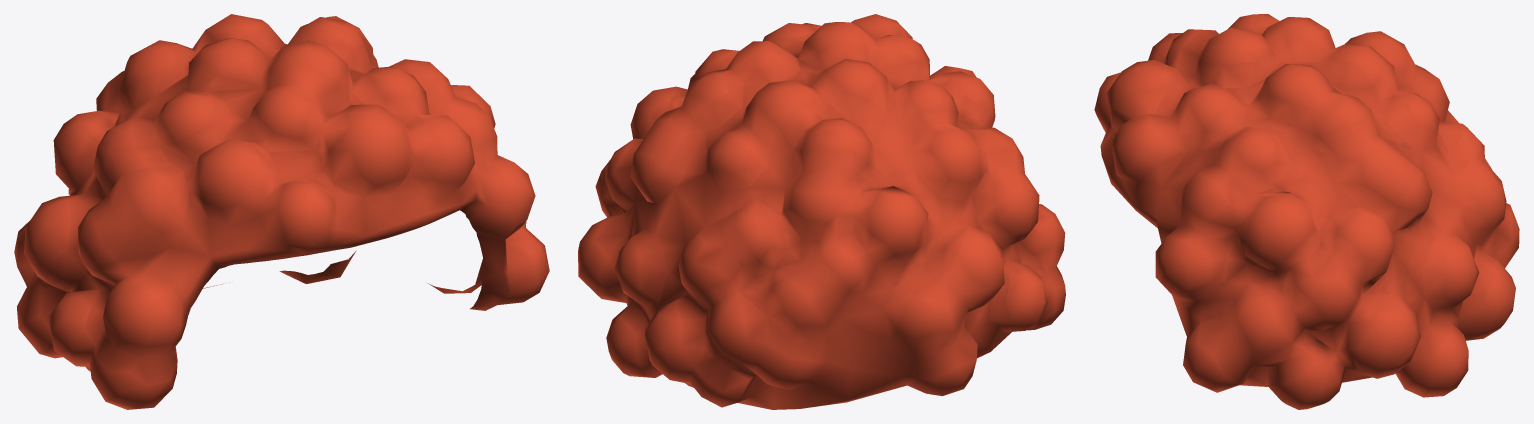
Rendered from hair_curly.glb.
The picture shows the model from 3 angles, left to right: view 1: azimuth 30°, elevation 25°; view 2: azimuth 150°, elevation 25°; view 3: azimuth 270°, elevation 25°; orthographic projection. The views are drawn at different scales.
Visible parts, largest first — view 1: hair_curly; view 2: hair_curly; view 3: hair_curly.
Part boxes in pixels (x1,y1,x2,y2): hair_curly: [14, 14, 549, 409]; hair_curly: [578, 14, 1065, 409]; hair_curly: [1094, 14, 1519, 409].
Bounding box in the file's own units: 0.7234 × 0.4993 × 0.6178.
1 material, 1 textured.
